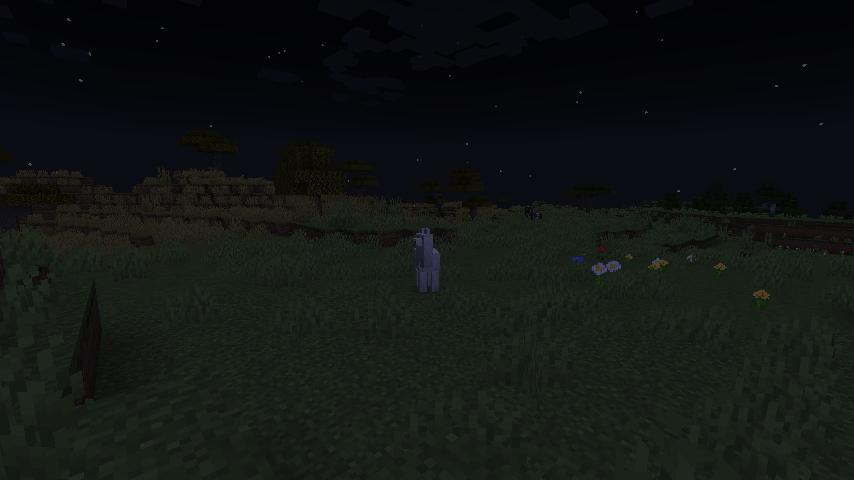cow: (523, 205, 544, 224)
llama: (412, 227, 445, 297)
